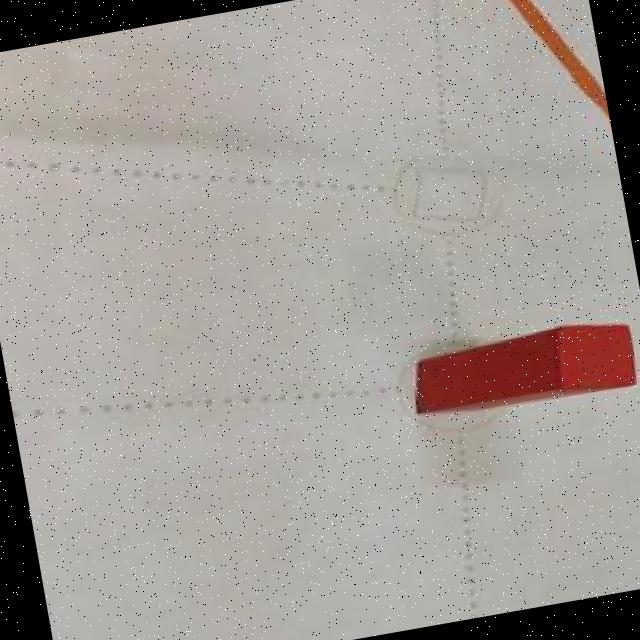redbox: (405, 312, 640, 426)
